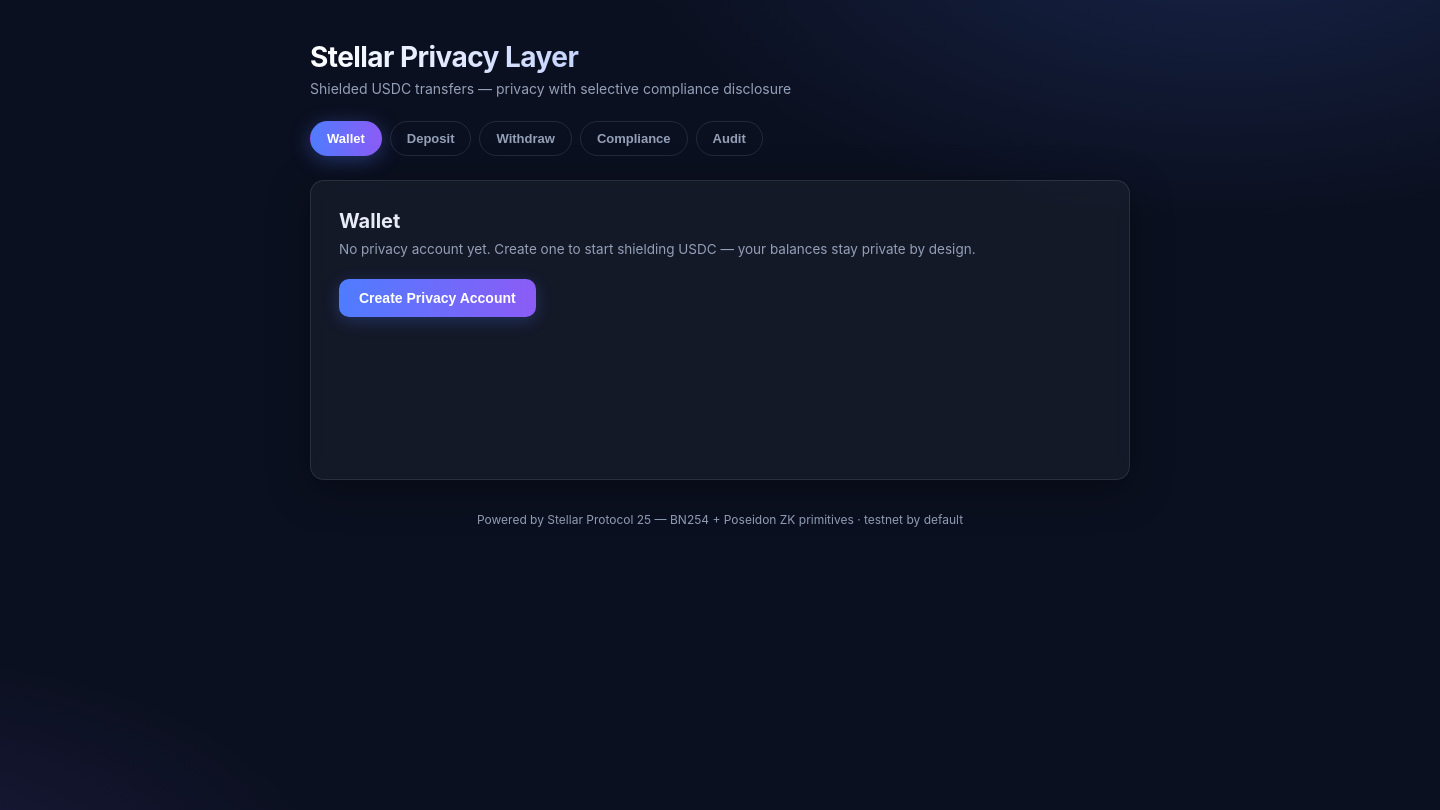
Test case: App › creates a privacy account
Click the button "Create Privacy Account". click: {"x": 437, "y": 298}
box: 339,279 -> 536,317
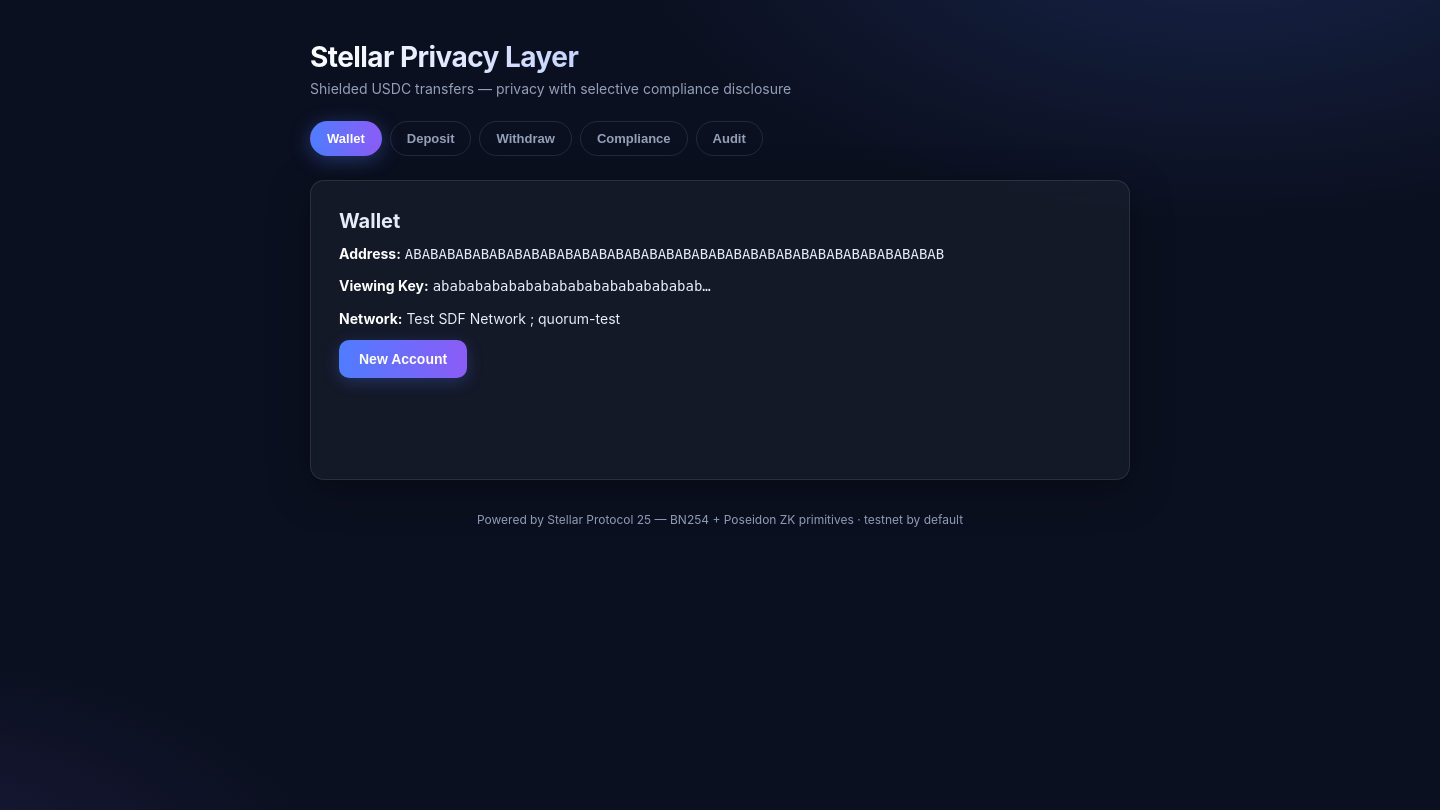
Now the button "New Account" is shown, box 339,340 -> 467,378
